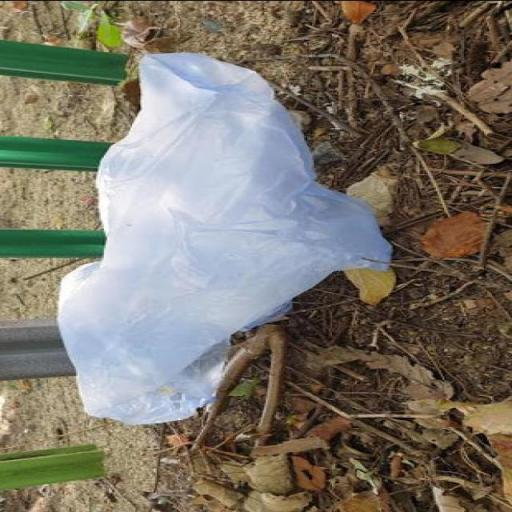plastic-bag: (54, 51, 393, 424)
